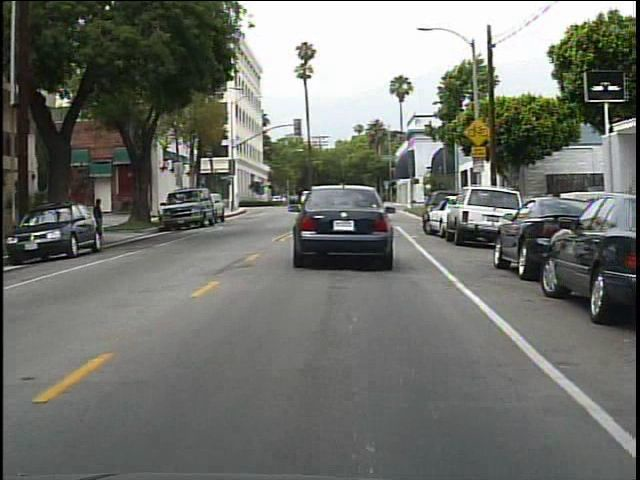person: (89, 194, 110, 245)
